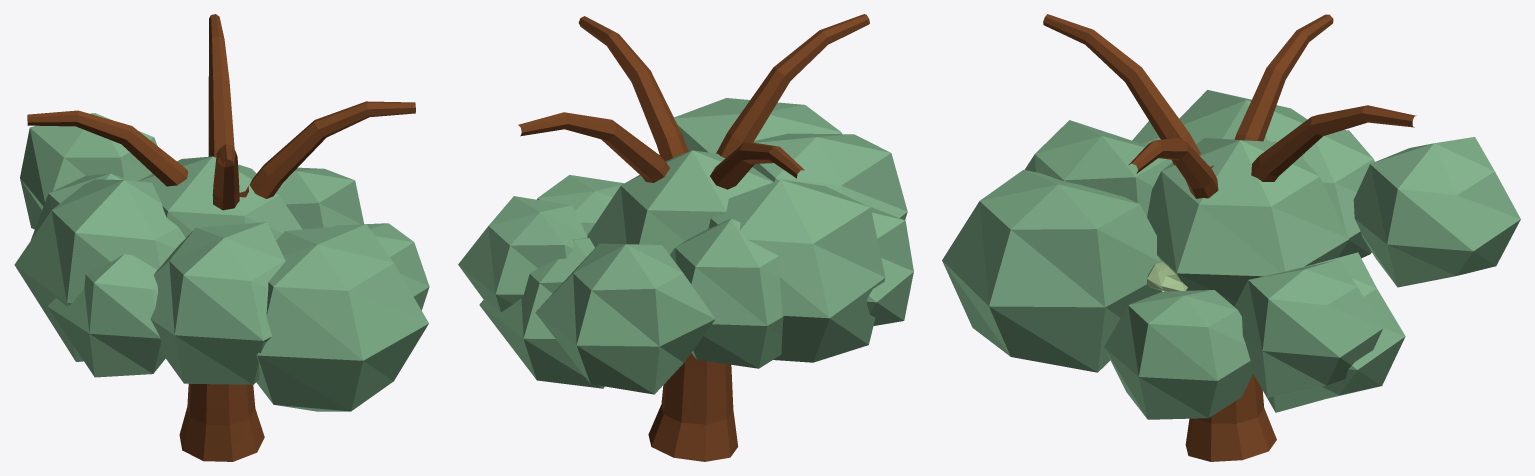
Rendered from nature_oak_ancient.glb.
The picture shows the model from 3 angles, left to right: view 1: azimuth 30°, elevation 25°; view 2: azimuth 150°, elevation 25°; view 3: azimuth 270°, elevation 25°; orthographic projection. The views are drawn at different scales.
Visible parts, largest first — view 1: world; view 2: world; view 3: world.
Part boxes in pixels (x1,y1,x2,y2): world: [14, 14, 429, 461]; world: [458, 14, 913, 461]; world: [942, 14, 1520, 461].
Size of the model in its own units: 1.49 by 1.5 by 2.
Materials: 3 (1 with a texture image).
